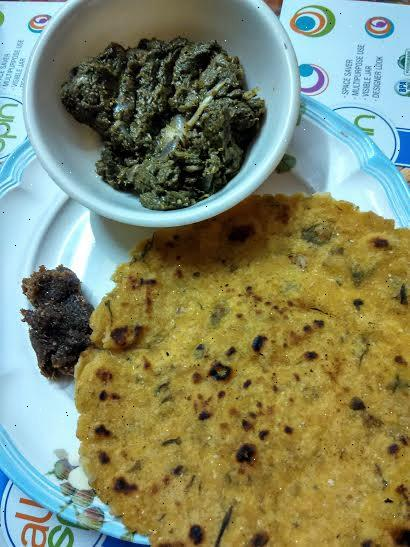saag: (59, 27, 267, 202)
